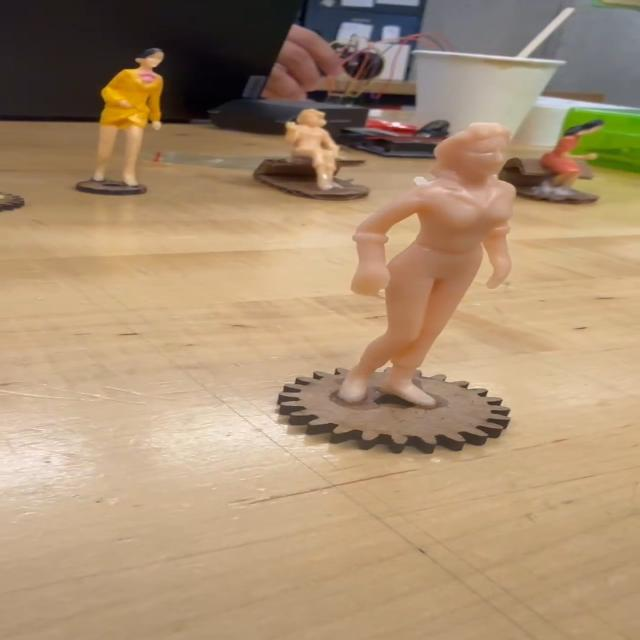Unauthorized: (350, 123, 534, 416)
